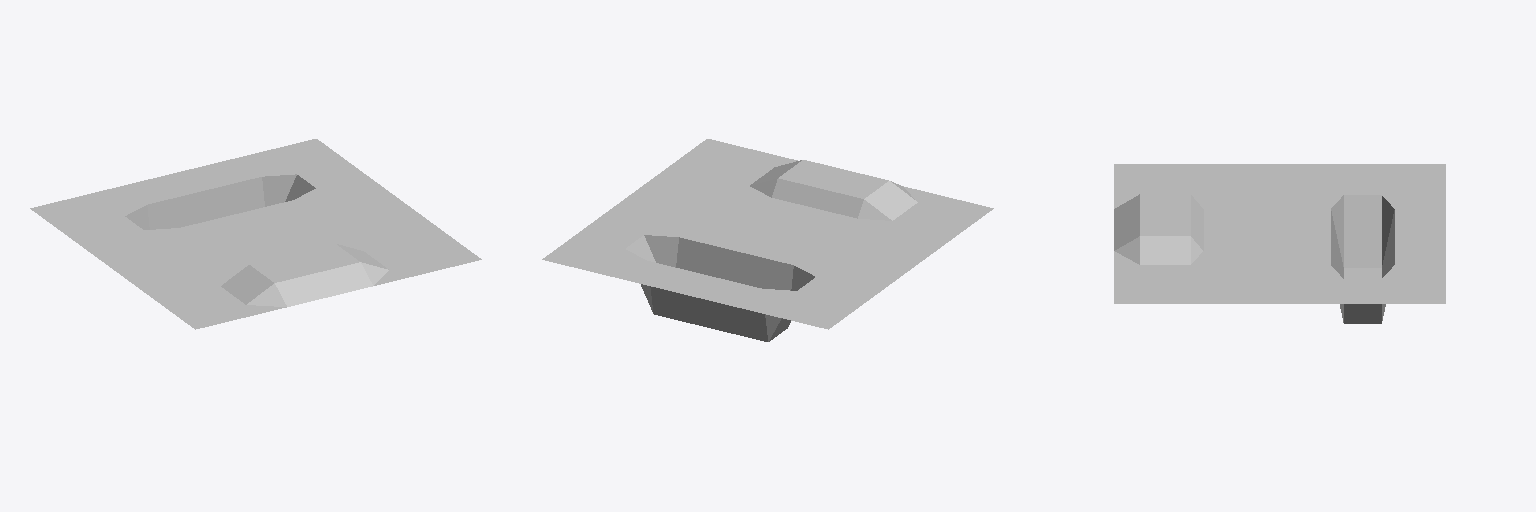
File: palneiii.obj
3 renders of one model, left to right at view 1: azimuth 30°, elevation 25°; view 2: azimuth 150°, elevation 25°; view 3: azimuth 270°, elevation 25°, orthographic.
Visible parts, largest first — view 1: off; view 2: off; view 3: off.
Boxes of the visible parts, <box> form: off: <box>30,139,481,329</box>; off: <box>542,139,993,341</box>; off: <box>1114,164,1445,323</box>.
Size of the model in its own units: 189 by 46.13 by 189.